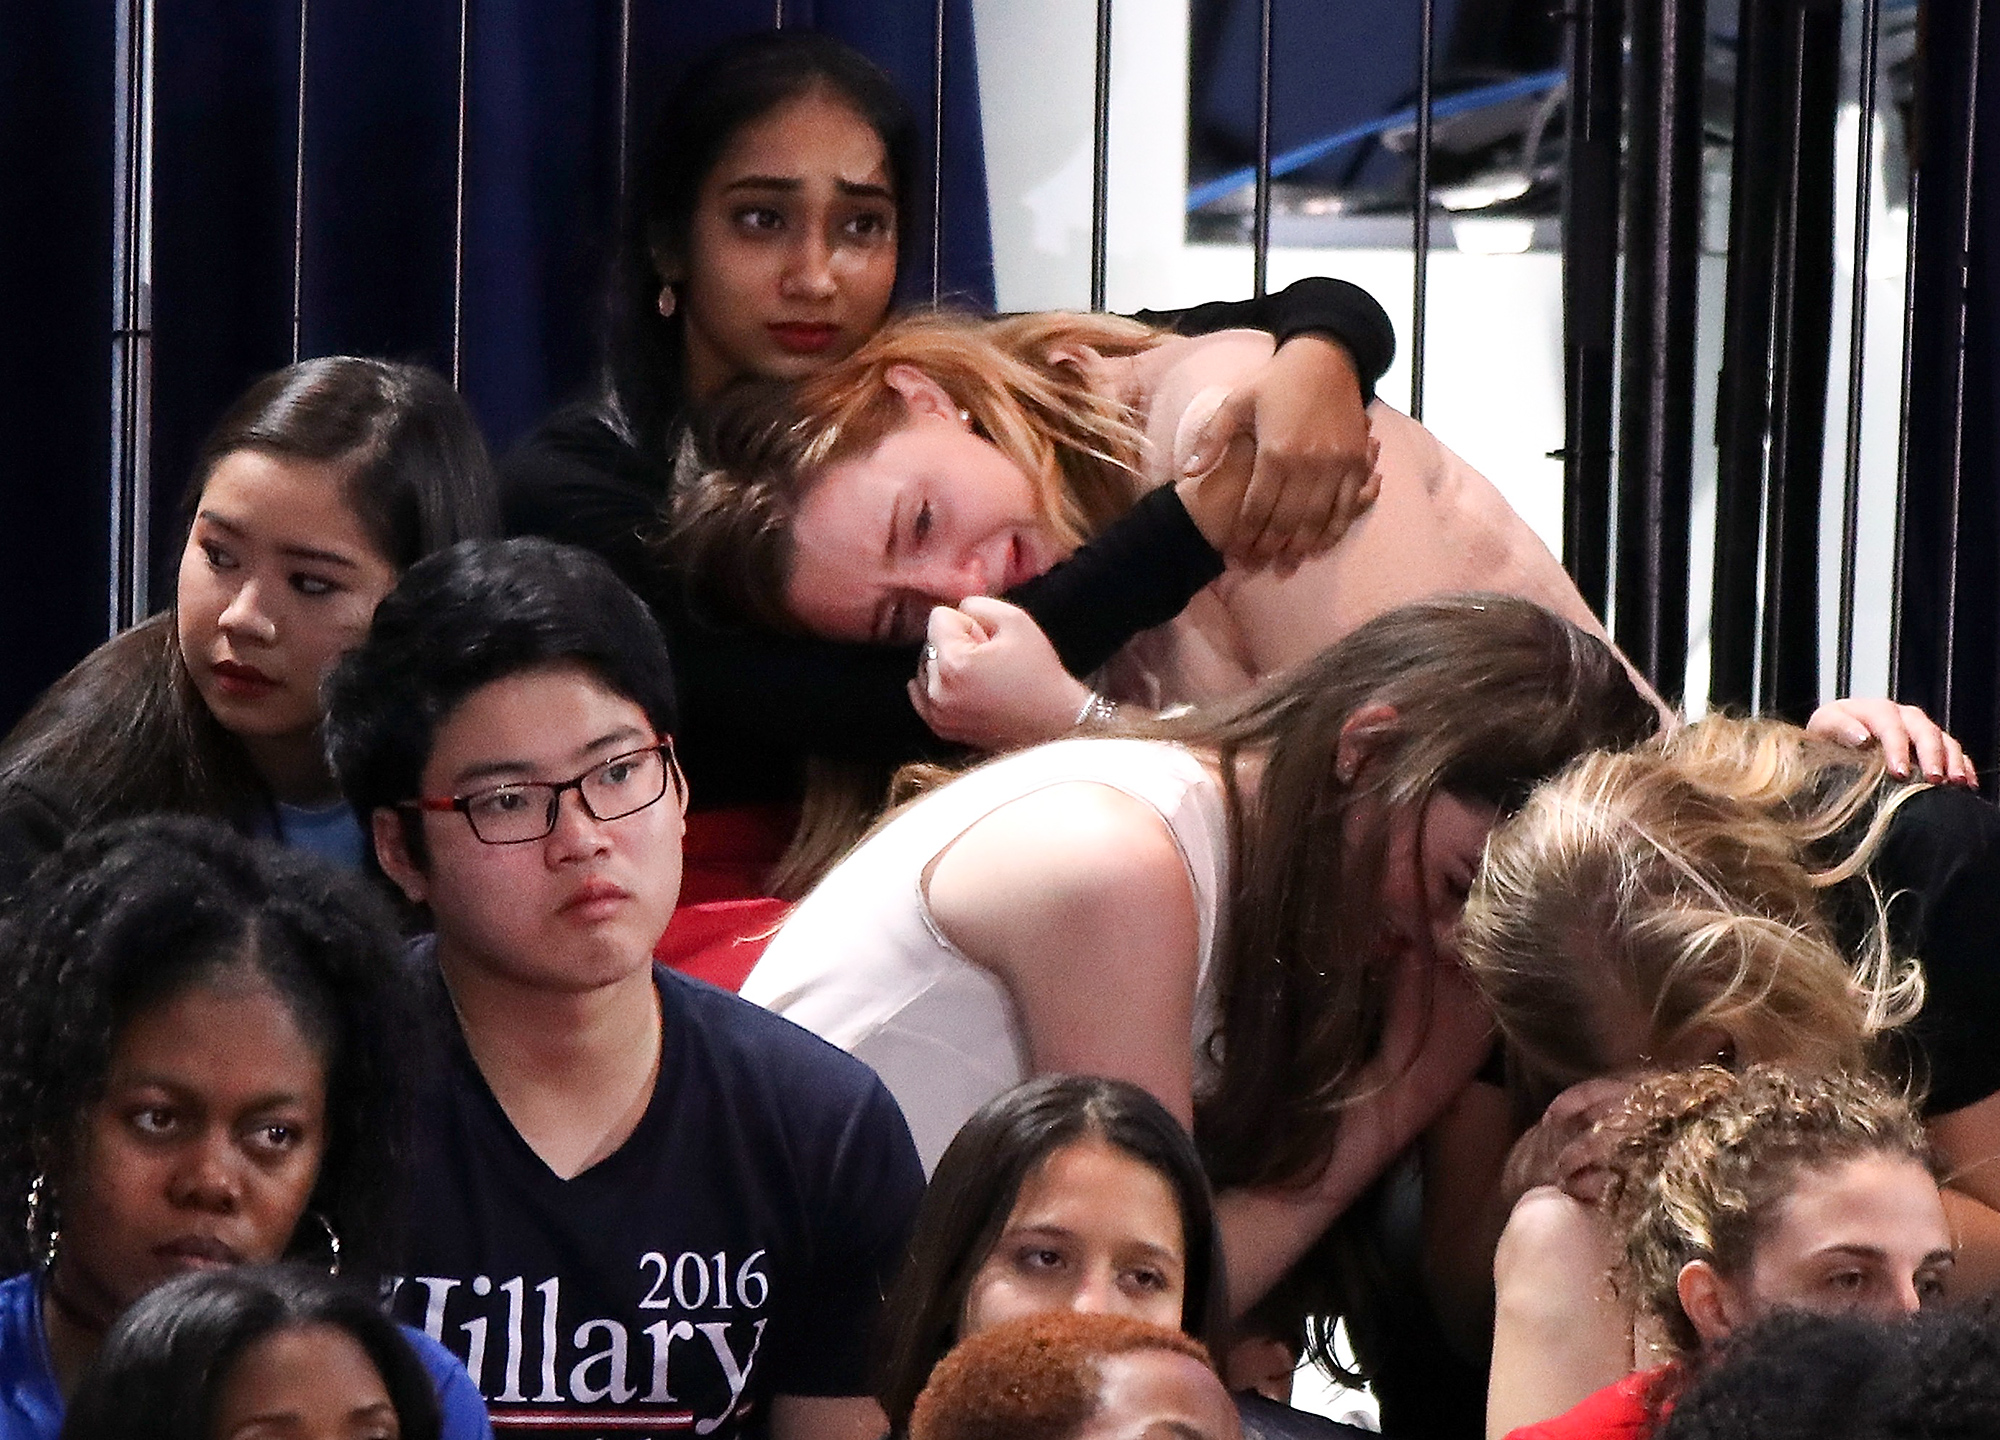sad: (685, 58, 914, 387), (735, 449, 1092, 630)
